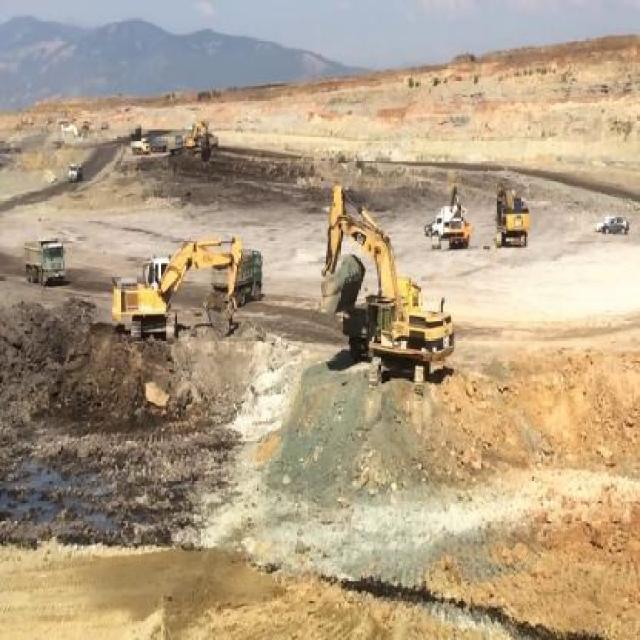dump_truck: (210, 249, 264, 302), (22, 241, 68, 281), (449, 216, 471, 249), (67, 167, 82, 181)
excavator: (318, 178, 454, 402), (106, 236, 245, 356), (492, 179, 530, 247)
